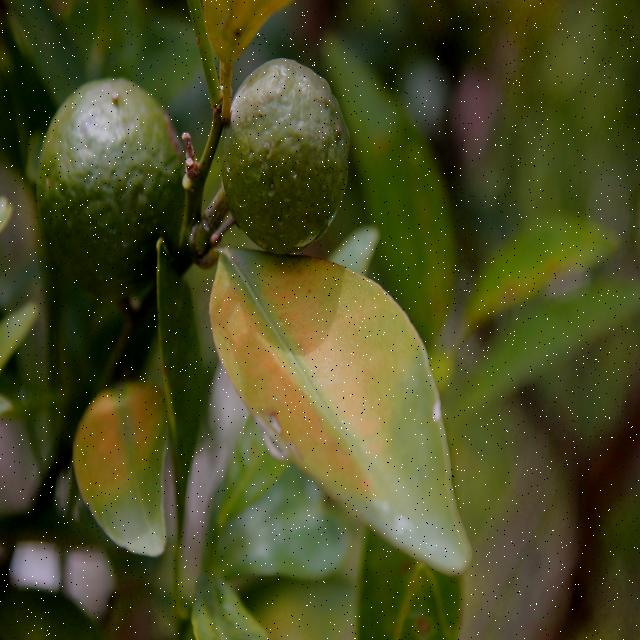greening: (212, 249, 478, 559), (79, 384, 173, 544)
